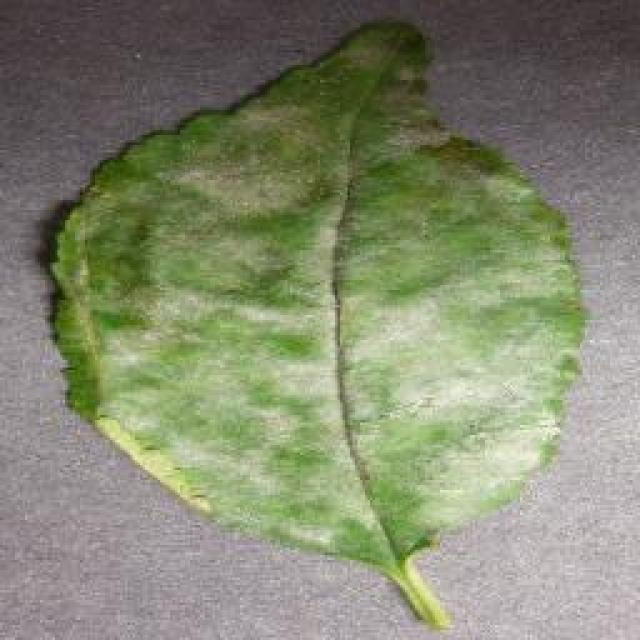Cherry___Powdery_mildew: (35, 2, 603, 640)
